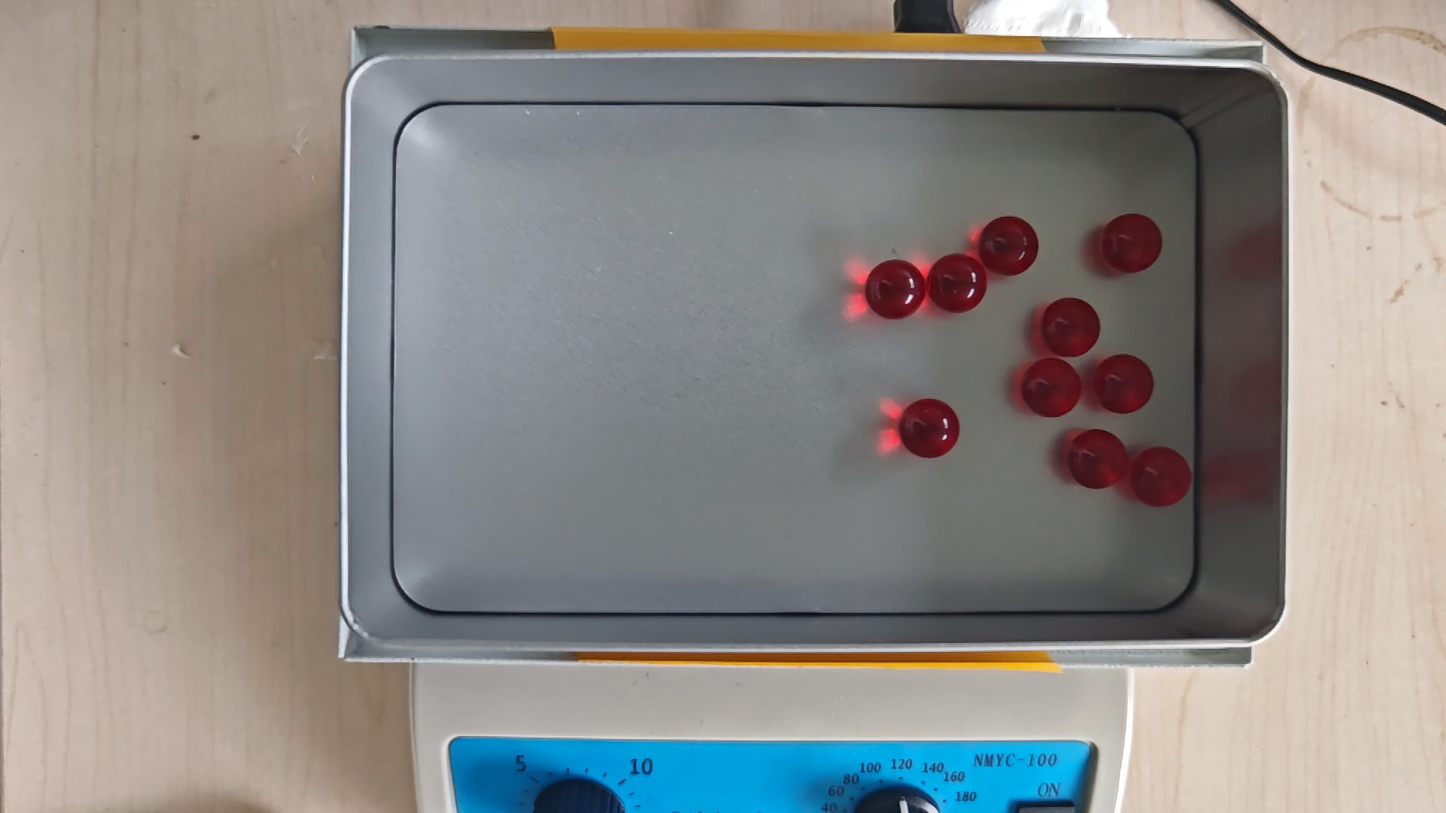ball: (1131, 446, 1192, 508), (1067, 429, 1129, 490), (899, 398, 960, 460), (1094, 353, 1154, 415), (1102, 213, 1162, 274), (1021, 359, 1082, 418), (980, 215, 1039, 275), (866, 260, 925, 320), (929, 253, 988, 313), (1042, 297, 1100, 357)
container: (392, 104, 1197, 614)
